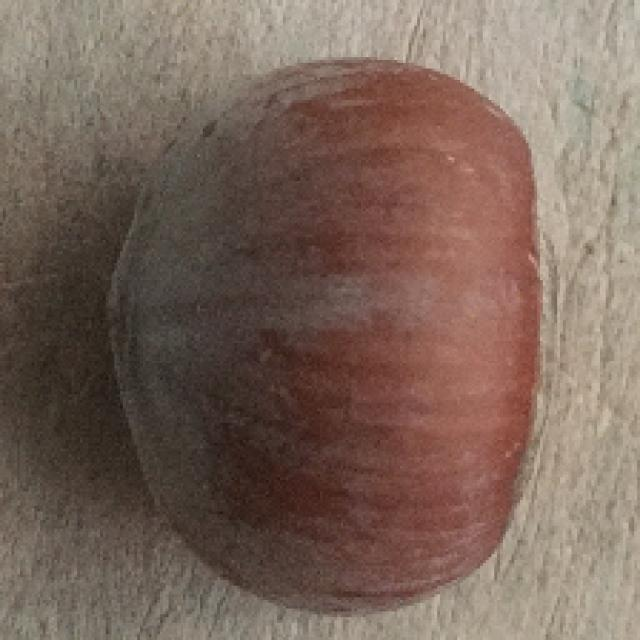qualityHazelnut: (101, 64, 562, 617)
